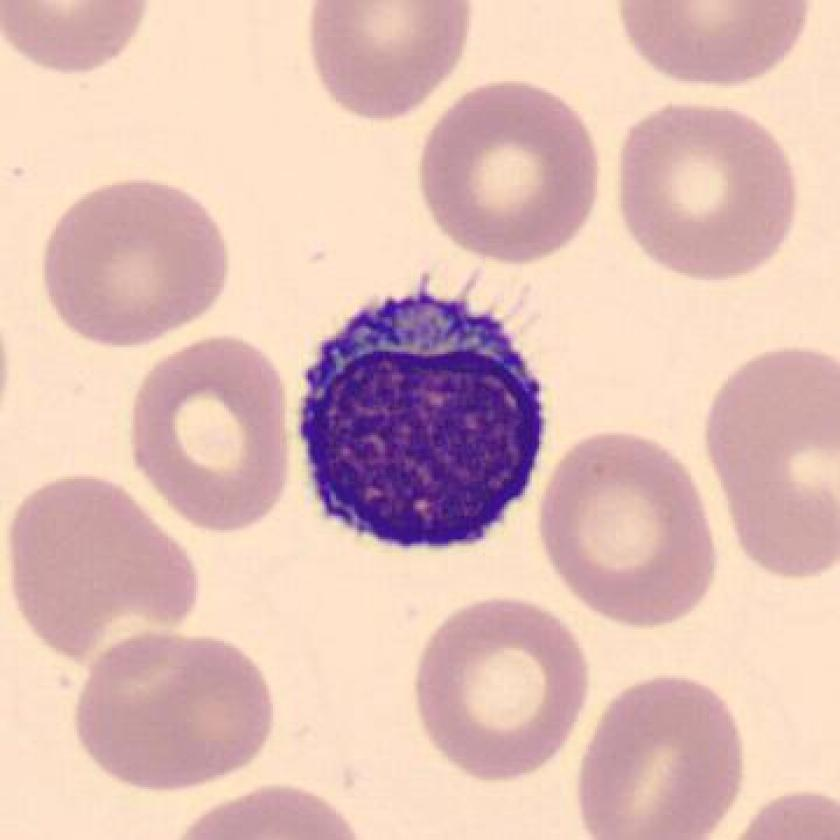lymphocyte: (281, 262, 568, 568)
